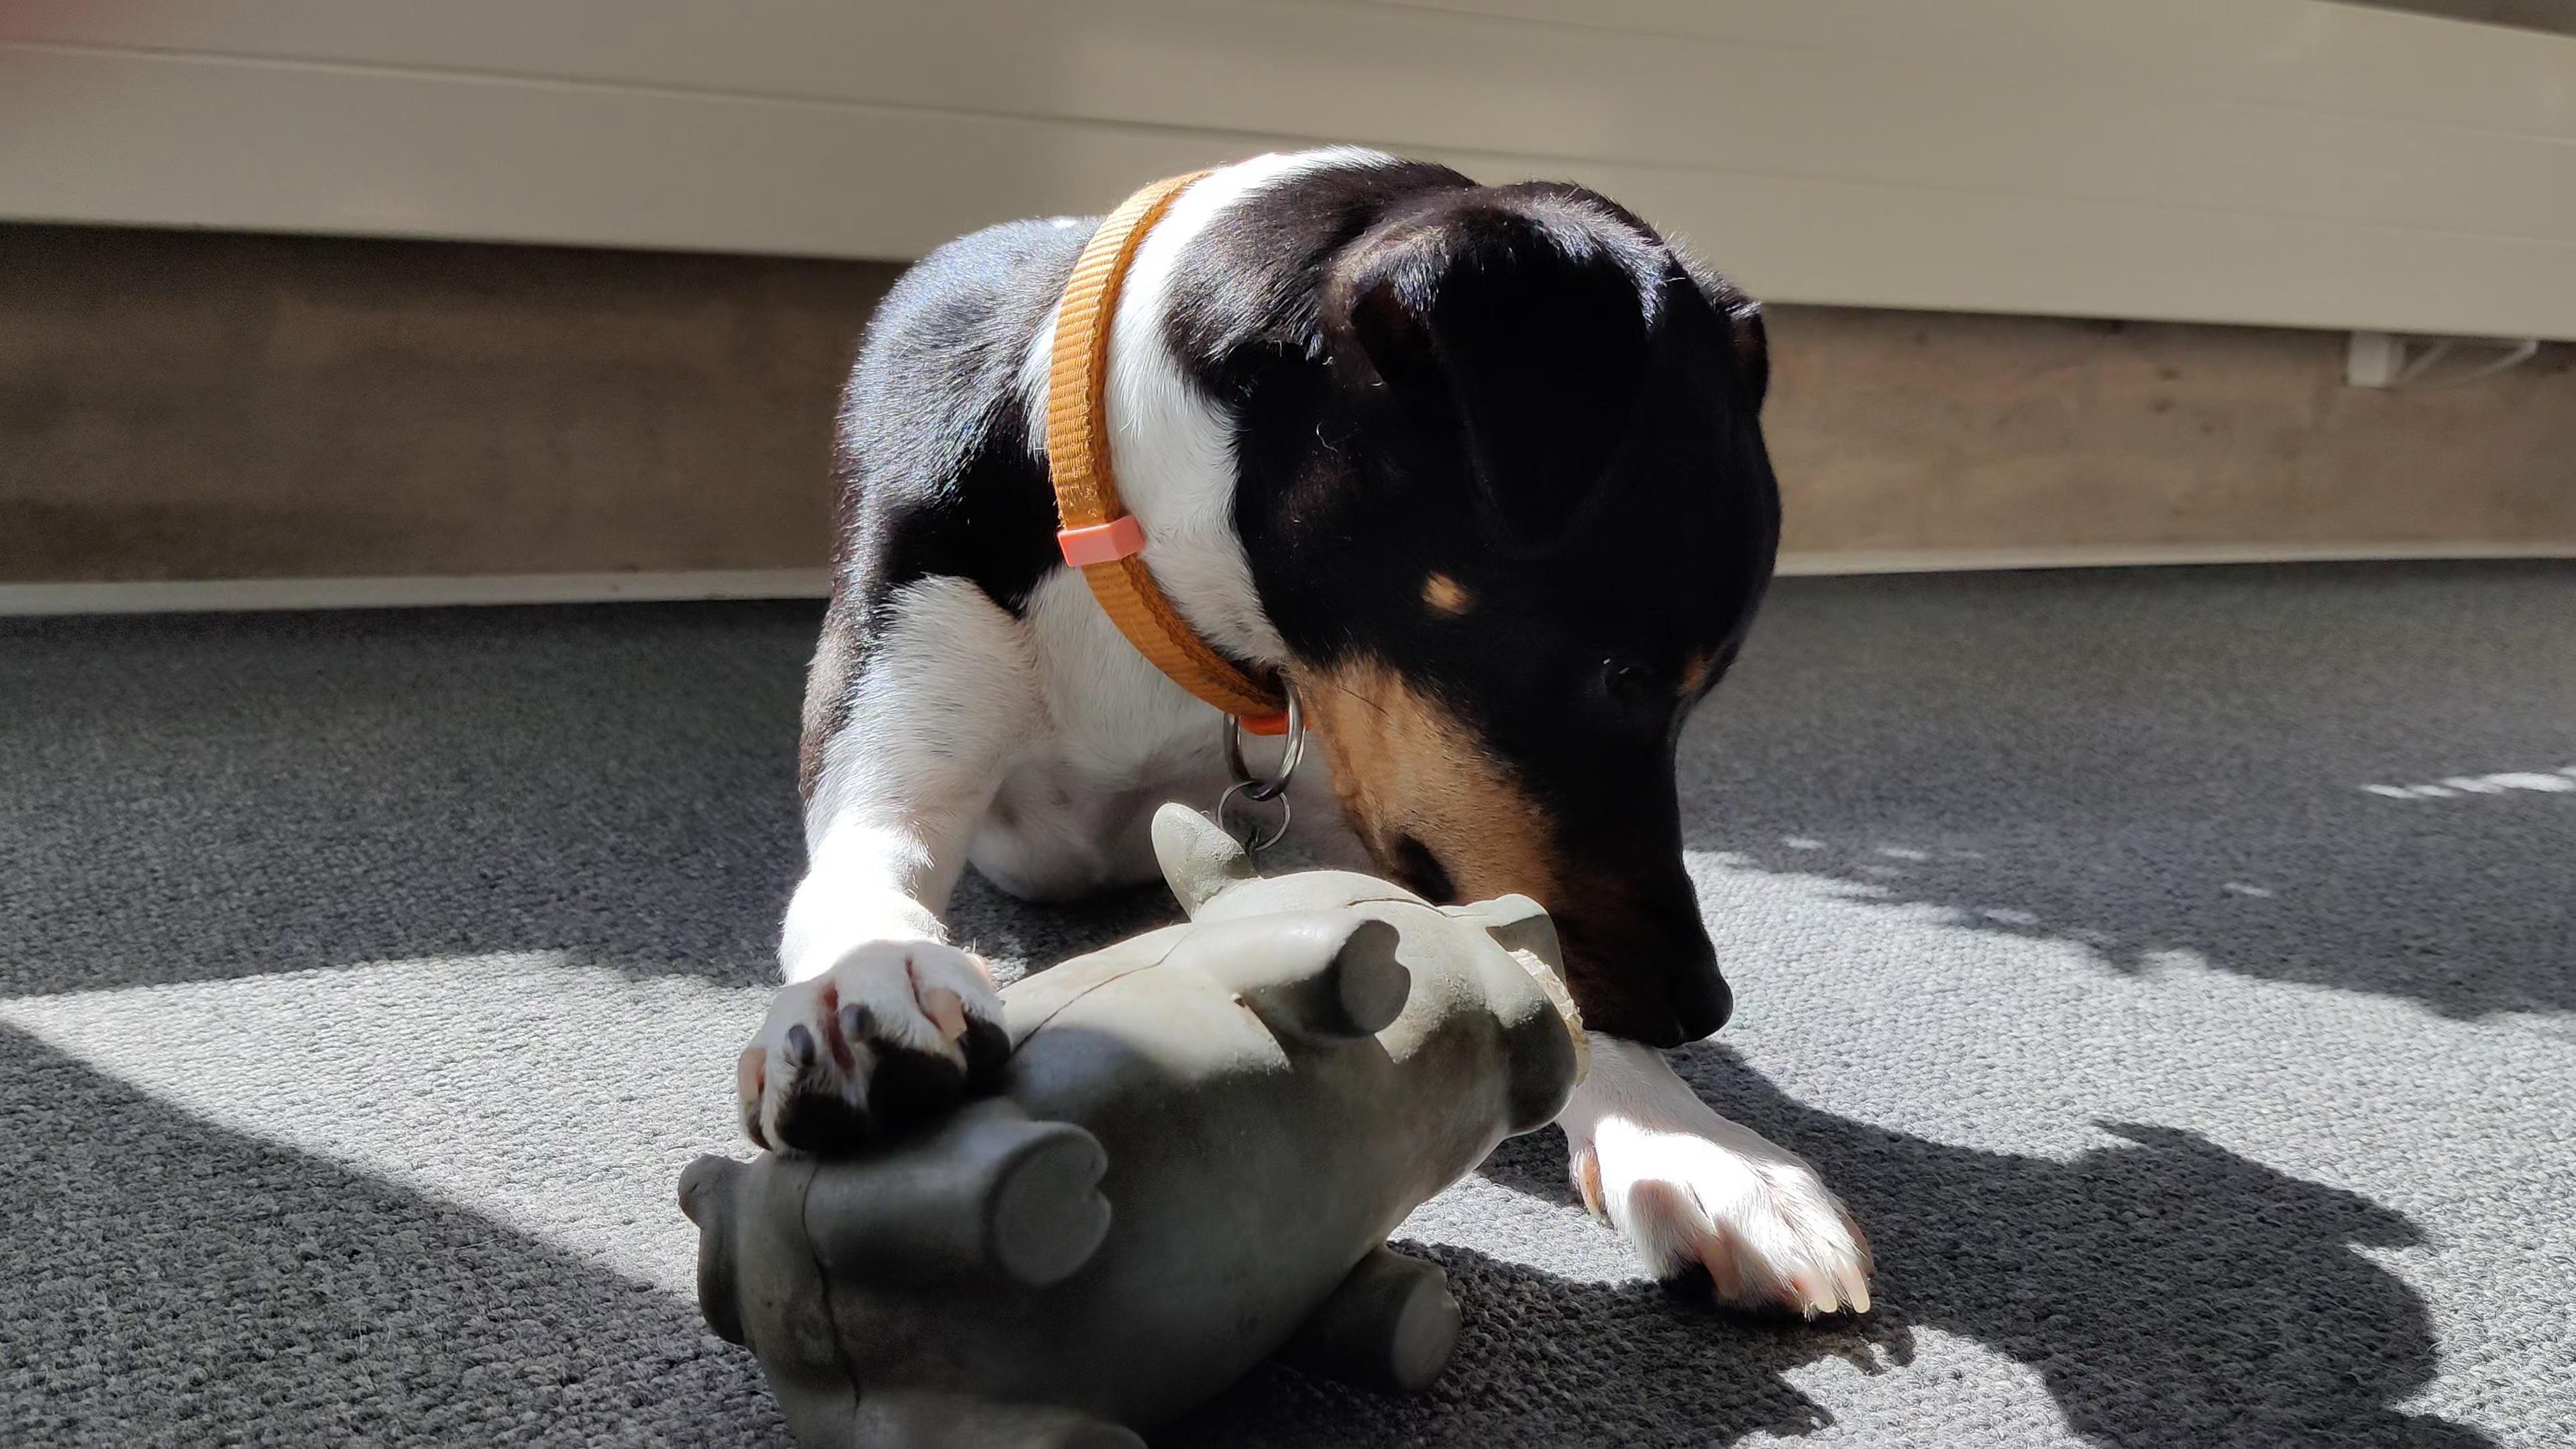Dog: (727, 138, 1893, 1330)
